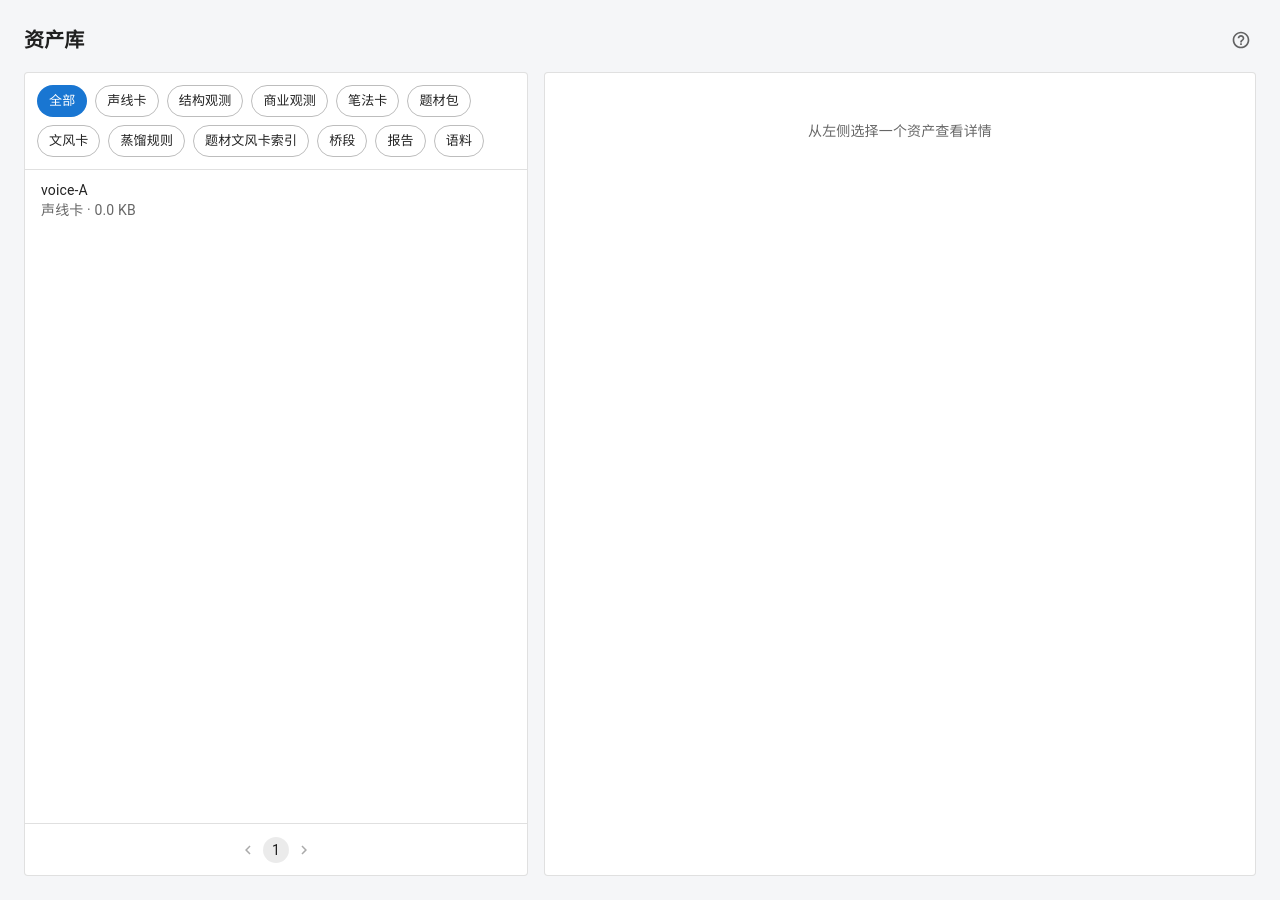
it: 资产库详情可读摘要 › 无 summary 时回退到原始 JSON 展示（兼容旧后端）
Click the text "voice-A" at (64, 190), box x1=41 y1=182 x2=88 y2=198
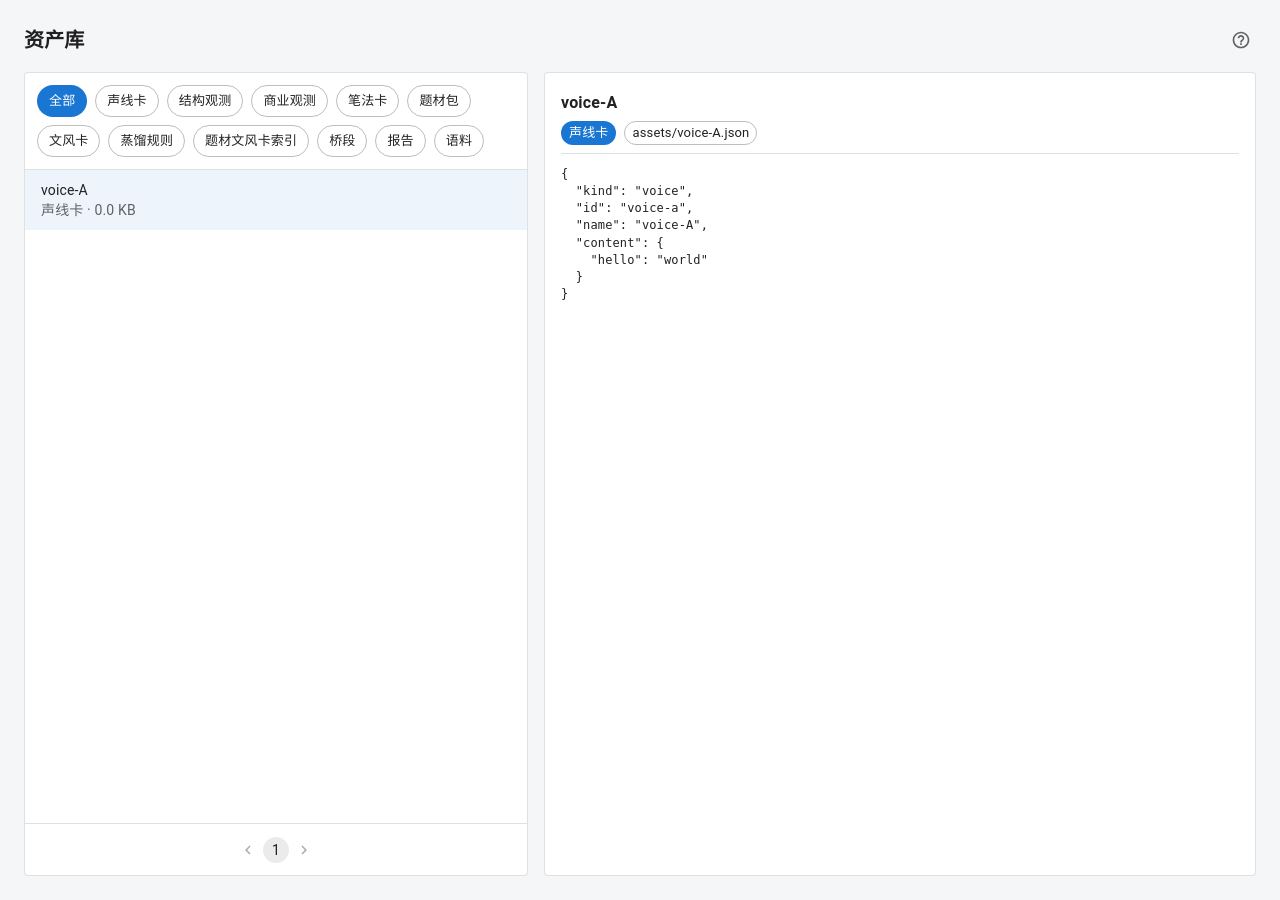
Result: the text "\"hello\": \"world\"" is shown at x1=561 y1=167 x2=708 y2=301
